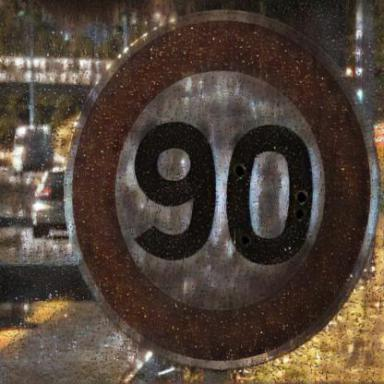Speed_limit_90: (69, 16, 374, 360)
